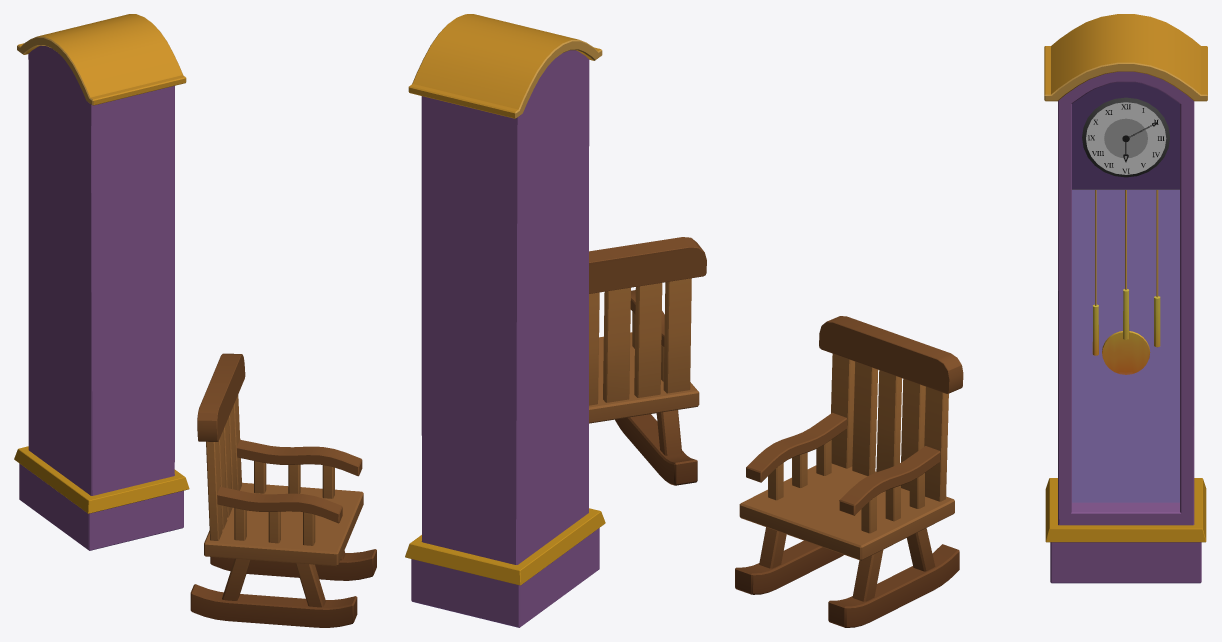
The model's file is Old clock & chair.fbx.
3 renders of one model, left to right at view 1: azimuth 30°, elevation 25°; view 2: azimuth 150°, elevation 25°; view 3: azimuth 270°, elevation 25°, orthographic. The views are drawn at different scales.
Visible parts, largest first — view 1: Old clock, Chairr; view 2: Old clock, Chairr; view 3: Old clock, Chairr.
Part boxes in pixels (x1,y1,x2,y2): Old clock: (14, 14, 189, 550); Chairr: (190, 353, 376, 627); Old clock: (405, 14, 605, 627); Chairr: (589, 237, 706, 485); Old clock: (1044, 14, 1207, 583); Chairr: (735, 316, 963, 627).
Bounding box in the file's own units: 107 × 253 × 208.
